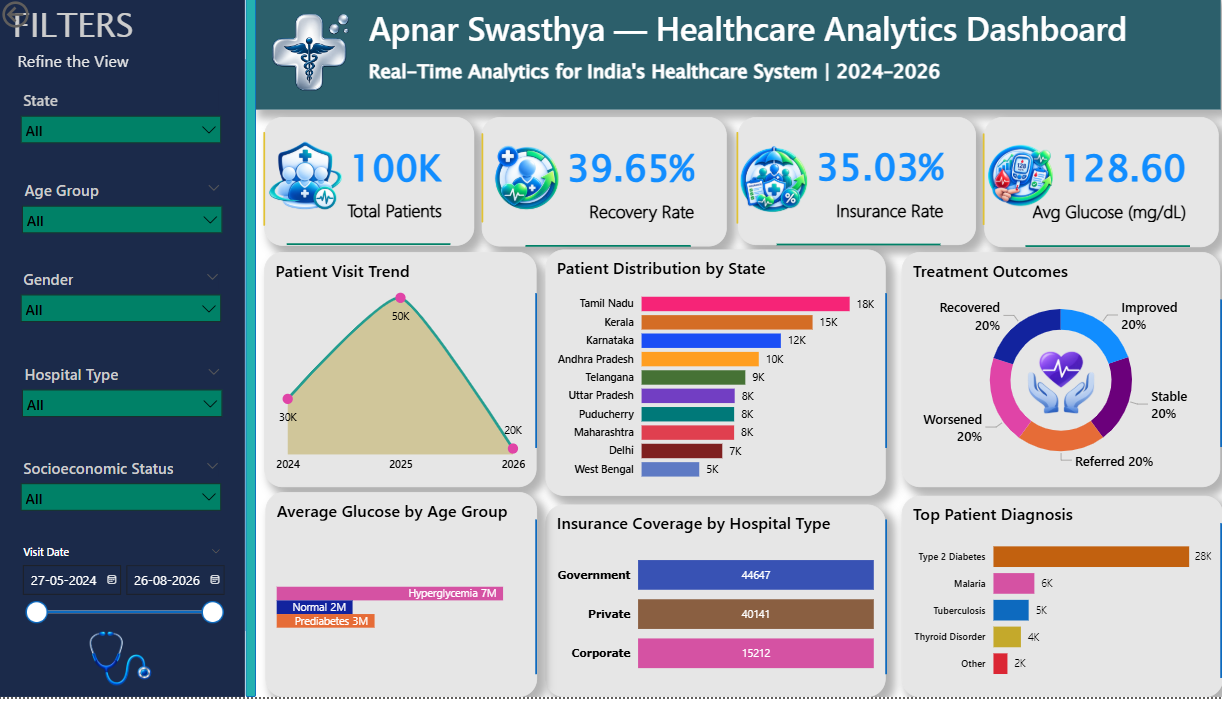

What the dashboard file says about the page in this screenshot:
{"tool":"powerbi","page":{"name":"Page 1","canvas":[1400,800],"ordinal":0},"visuals":[{"type":"shape","box":[0,0,282.2,800],"z":0},{"type":"shape","box":[292.7,0,1104.6,129.1],"z":1000},{"type":"shape","box":[282.2,0,12,800],"z":2000},{"type":"textbox","box":[0,0,171.1,82.5],"z":3000},{"type":"textbox","box":[16.5,55.5,156.1,39],"z":4000},{"type":"slicer","fields":{"Values":["Table1.State"]},"box":[15,102.1,249.1,79.5],"z":5000},{"type":"slicer","fields":{"Values":["Table1.Age_Group"]},"box":[16.5,204.1,249.1,79.5],"z":6000},{"type":"slicer","fields":{"Values":["Table1.Gender"]},"box":[15,306.2,249.1,79.5],"z":7000},{"type":"slicer","fields":{"Values":["Table1.Hospital_Type"]},"box":[16.5,414.2,249.1,79.5],"z":8000},{"type":"slicer","fields":{"Values":["Table1.Socioeconomic_Status"]},"box":[15,520.8,249.1,79.5],"z":9000},{"type":"slicer","fields":{"Values":["Table1.Visit_Date"]},"box":[15,621.4,250.6,100.6],"z":10000},{"type":"image","box":[97.6,714.4,87.1,85.5],"z":11000},{"type":"image","box":[292.7,13.5,126.1,102.1],"z":12000},{"type":"textbox","box":[418.7,6,930.5,76.5],"z":13000},{"type":"textbox","box":[418.7,64.5,673.9,55.5],"z":14000},{"type":"cardVisual","fields":{"Data":["Table1.Total Patients"]},"box":[304,137,240,147],"z":15000},{"type":"cardVisual","fields":{"Data":["Table1.Recovery Rate"]},"box":[553,137,280,148],"z":16000},{"type":"cardVisual","fields":{"Data":["Table1.Insurance Rate"]},"box":[845,137,272,146],"z":17000},{"type":"cardVisual","fields":{"Data":["Table1.Avg Glucose"]},"box":[1126.7,136.7,268,148.9],"z":18000},{"type":"shape","box":[278.6,154.3,51.4,107.1],"z":19000},{"type":"shape","box":[468,156,170,102],"z":20000},{"type":"shape","box":[760,154,170,105],"z":21000},{"type":"shape","box":[1042,156,170,105],"z":22000},{"type":"shape","box":[330.7,272,187,22],"z":23000},{"type":"shape","box":[603.1,277.6,189,14.6],"z":24000},{"type":"shape","box":[890.6,277.2,187,11.4],"z":25000},{"type":"shape","box":[1174.4,278,188.2,12.2],"z":26000},{"type":"image","box":[288.6,160,125.7,91.4],"z":27000},{"type":"image","box":[535.7,164.3,117.1,87.1],"z":28000},{"type":"image","box":[844.3,167.1,85.7,84.3],"z":29000},{"type":"image","box":[1125.7,150,85.7,110],"z":30000},{"type":"lineChart","title":"Patient Visit Trend","fields":{"Category":["Table1.Visit_Date.Variation.Date Hierarchy.Year","Table1.Visit_Date.Variation.Date Hierarchy.Quarter","Table1.Visit_Date.Variation.Date Hierarchy.Month","Table1.Visit_Date.Variation.Date Hierarchy.Day"],"Y":["CountNonNull(Table1.Patient_ID)"]},"box":[304.3,291.4,311.4,268.6],"z":31000},{"type":"clusteredBarChart","title":"Patient Distribution by State","fields":{"Category":["Table1.State"],"Y":["CountNonNull(Table1.Patient_ID)"]},"box":[625.7,288.6,388.6,281.4],"z":32000},{"type":"actionButton","box":[0,0,100,40],"z":33000},{"type":"donutChart","title":"Treatment Outcomes","fields":{"Category":["Table1.Treatment_Outcome"],"Y":["CountNonNull(Table1.Patient_ID)"]},"box":[1032.9,291.4,364.3,268.6],"z":34000},{"type":"hundredPercentStackedBarChart","title":"Insurance Coverage by Hospital Type","fields":{"Category":["Table1.Hospital_Type"],"Y":["CountNonNull(Table1.Patient_ID)"]},"box":[625.7,580,388.6,220],"z":35000},{"type":"clusteredBarChart","title":"Average Glucose by Age Group","fields":{"Y":["Sum(Table1.Fasting_Blood_Glucose__mg_dl)"],"Series":["Table1.Glycemic_Status"]},"box":[305.7,565.7,310,234.3],"z":36000},{"type":"clusteredBarChart","title":"Top Patient Diagnosis","fields":{"Category":["Table1.Primary_Diagnosis"],"Y":["CountNonNull(Table1.Patient_ID)"]},"box":[1032.9,570,367.1,230],"z":37000},{"type":"shape","box":[594.3,338.6,41.4,177.1],"z":38000},{"type":"shape","box":[994.3,338.6,41.4,177.1],"z":39000},{"type":"shape","box":[1395.7,345.7,4.3,168.6],"z":40000},{"type":"shape","box":[594.3,597.1,41.4,177.1],"z":41000},{"type":"shape","box":[994.3,597.1,41.4,177.1],"z":42000},{"type":"shape","box":[1395.7,601.4,4.3,177.1],"z":43000},{"type":"image","box":[1174.3,400,81.4,81.4],"z":44000}]}

Visuals, with their boxes in screenshot pixels (x1, y1, x2, y2), scaled from the page's 1400x800 canvas onto the 1222x702 screenshot:
shape: [0,0,246,701]
shape: [255,0,1220,113]
shape: [246,0,257,701]
textbox: [0,0,149,72]
textbox: [14,49,151,83]
slicer - Table1.State: [13,90,231,159]
slicer - Table1.Age_Group: [14,179,232,249]
slicer - Table1.Gender: [13,269,231,338]
slicer - Table1.Hospital_Type: [14,363,232,433]
slicer - Table1.Socioeconomic_Status: [13,457,231,527]
slicer - Table1.Visit_Date: [13,545,232,634]
image: [85,627,161,701]
image: [255,12,366,101]
textbox: [365,5,1178,72]
textbox: [365,57,954,105]
cardVisual - Table1.Total Patients: [265,120,475,249]
cardVisual - Table1.Recovery Rate: [483,120,727,250]
cardVisual - Table1.Insurance Rate: [738,120,975,248]
cardVisual - Table1.Avg Glucose: [983,120,1217,251]
shape: [243,135,288,229]
shape: [408,137,557,226]
shape: [663,135,812,227]
shape: [910,137,1058,229]
shape: [289,239,452,258]
shape: [526,244,691,256]
shape: [777,243,941,253]
shape: [1025,244,1189,255]
image: [252,140,362,221]
image: [468,144,570,221]
image: [737,147,812,221]
image: [983,132,1057,228]
"Patient Visit Trend" lineChart: [266,256,537,491]
"Patient Distribution by State" clusteredBarChart: [546,253,885,500]
actionButton: [0,0,87,35]
"Treatment Outcomes" donutChart: [902,256,1220,491]
"Insurance Coverage by Hospital Type" hundredPercentStackedBarChart: [546,509,885,701]
"Average Glucose by Age Group" clusteredBarChart: [267,496,537,701]
"Top Patient Diagnosis" clusteredBarChart: [902,500,1221,701]
shape: [519,297,555,453]
shape: [868,297,904,453]
shape: [1218,303,1221,451]
shape: [519,524,555,679]
shape: [868,524,904,679]
shape: [1218,528,1221,683]
image: [1025,351,1096,422]
